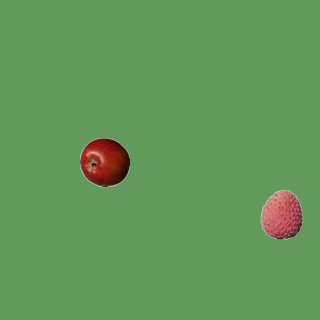Apple Braeburn: (79, 137, 129, 187)
Lychee: (256, 189, 306, 239)
